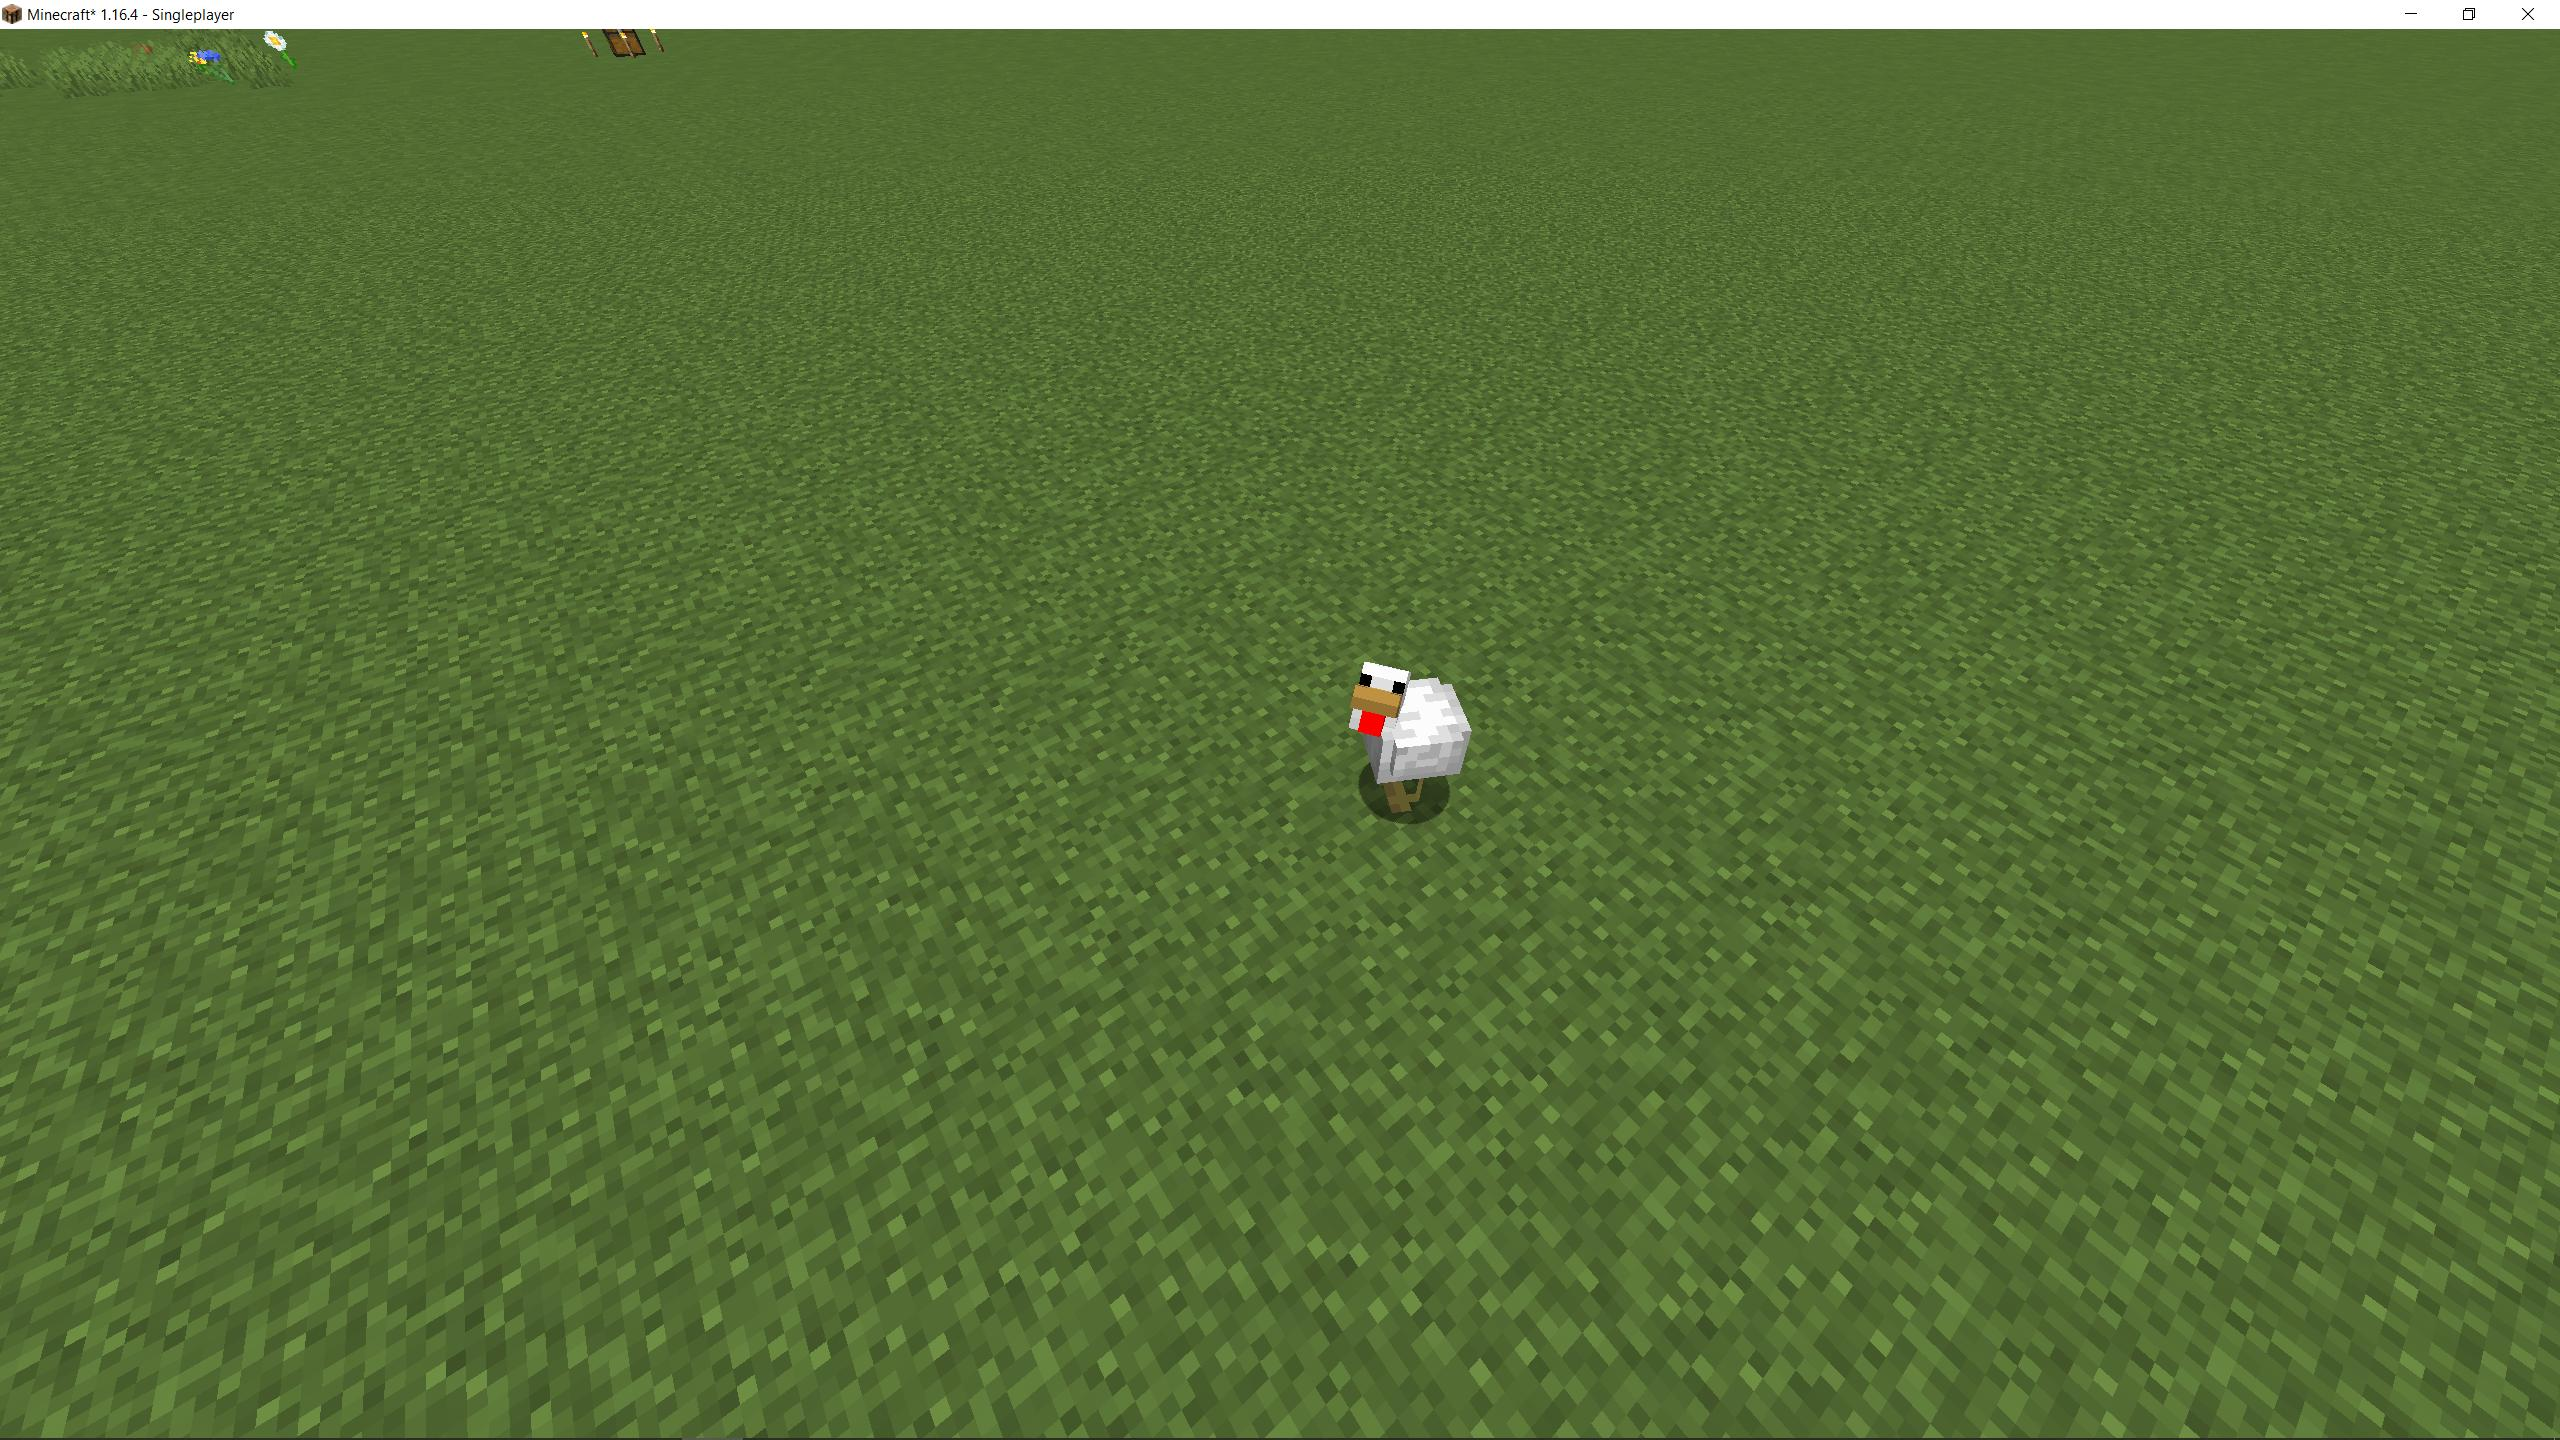chicken: (1336, 651, 1475, 826)
